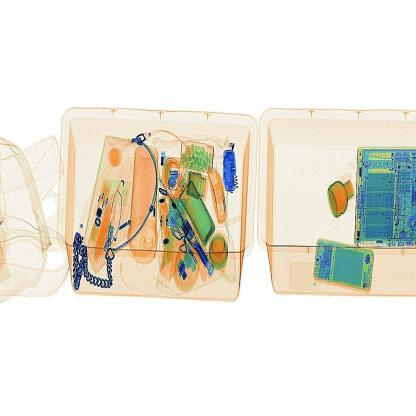scissors: (213, 142, 242, 199)
